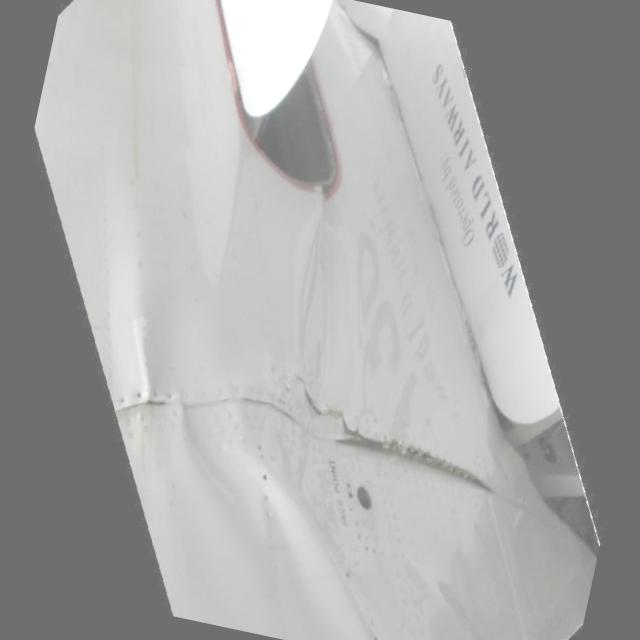crack: (278, 364, 378, 450)
dent: (138, 393, 409, 640)
